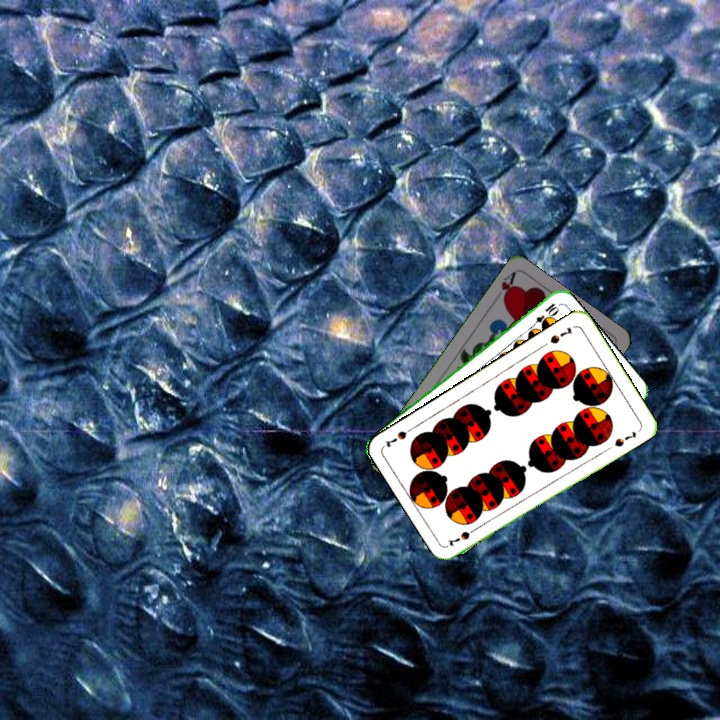E10: (526, 299, 561, 332)
HA: (497, 268, 518, 305)
S7: (444, 523, 481, 549), (546, 323, 575, 346)
